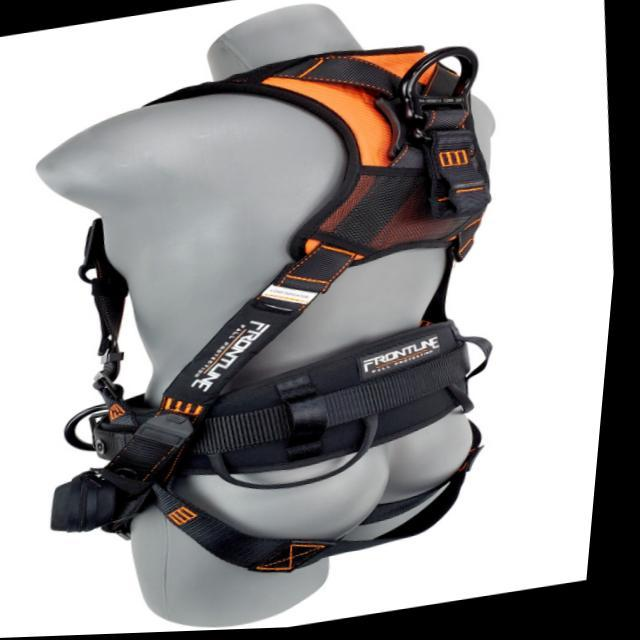belt: (0, 29, 557, 614)
